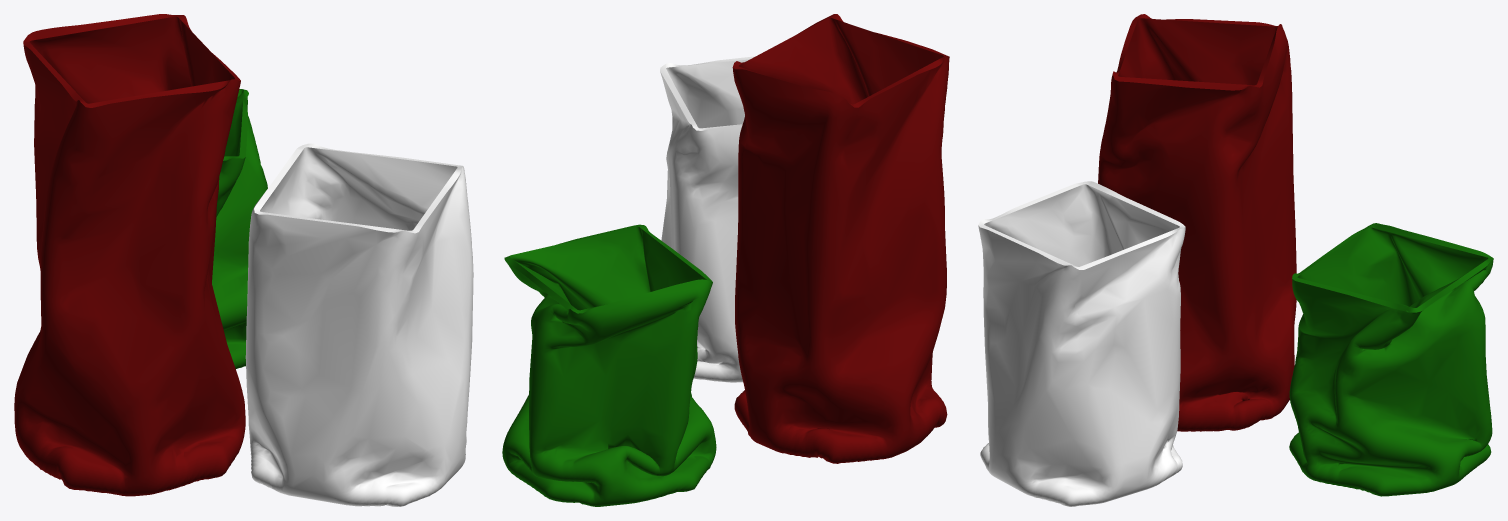
The picture shows the model from 3 angles, left to right: view 1: azimuth 30°, elevation 25°; view 2: azimuth 150°, elevation 25°; view 3: azimuth 270°, elevation 25°; orthographic projection. The views are drawn at different scales.
Visible parts, largest first — view 1: 3ddd.ru; view 2: 3ddd.ru; view 3: 3ddd.ru.
Boxes of the visible parts, x1,y1,x2,y2 form: 3ddd.ru: [14, 14, 473, 506]; 3ddd.ru: [502, 14, 949, 506]; 3ddd.ru: [978, 14, 1493, 506].
Bounding box in the file's own units: 359 × 379 × 501.
